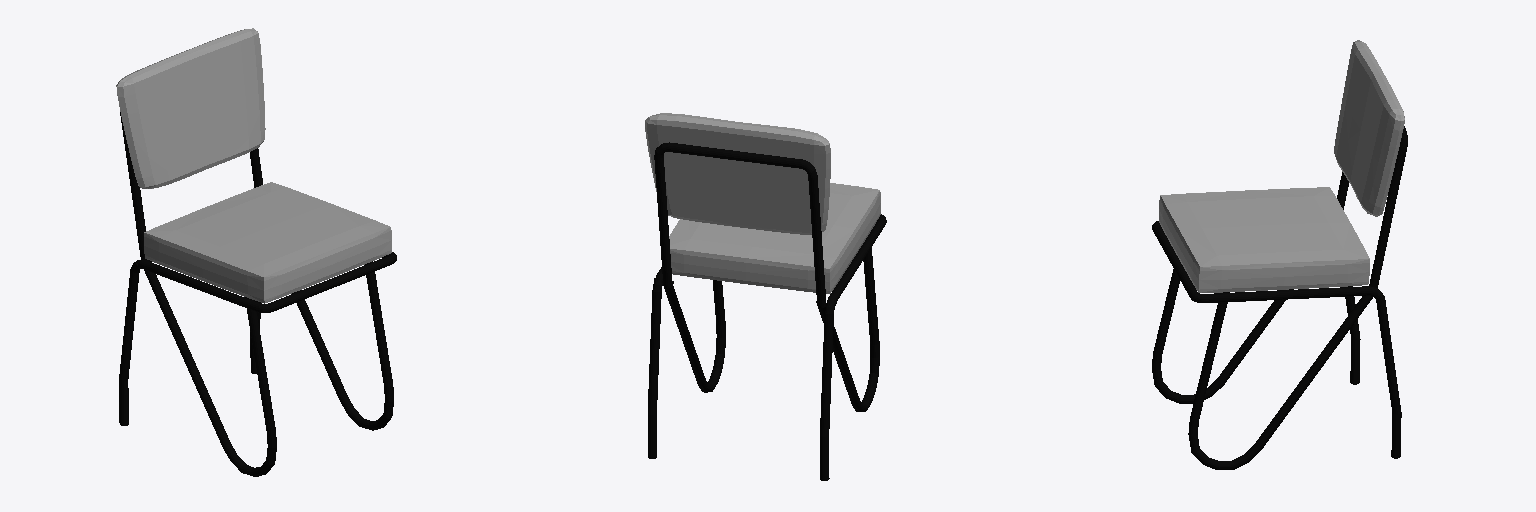
Rendered from chair3.obj.
3 renders of one model, left to right at view 1: azimuth 30°, elevation 25°; view 2: azimuth 150°, elevation 25°; view 3: azimuth 270°, elevation 25°, orthographic.
Visible parts, largest first — view 1: cadiregrogue.001_Cube.002, cadiregrogue.002_Cube.004, cadiregroge_pot_Cube.003; view 2: cadiregrogue.002_Cube.004, cadiregroge_pot_Cube.003, cadiregrogue.001_Cube.002; view 3: cadiregrogue.001_Cube.002, cadiregroge_pot_Cube.003, cadiregrogue.002_Cube.004.
Boxes of the visible parts, x1=… form: cadiregrogue.001_Cube.002: x1=144, y1=182, x2=391, y2=303; cadiregrogue.002_Cube.004: x1=116, y1=28, x2=265, y2=188; cadiregroge_pot_Cube.003: x1=119, y1=112, x2=396, y2=476; cadiregrogue.002_Cube.004: x1=645, y1=113, x2=830, y2=234; cadiregroge_pot_Cube.003: x1=648, y1=142, x2=886, y2=480; cadiregrogue.001_Cube.002: x1=669, y1=183, x2=880, y2=293; cadiregrogue.001_Cube.002: x1=1159, y1=187, x2=1369, y2=292; cadiregroge_pot_Cube.003: x1=1152, y1=126, x2=1407, y2=469; cadiregrogue.002_Cube.004: x1=1334, y1=40, x2=1404, y2=216.
Size of the model in its own units: 0.5219 by 0.8593 by 0.576.